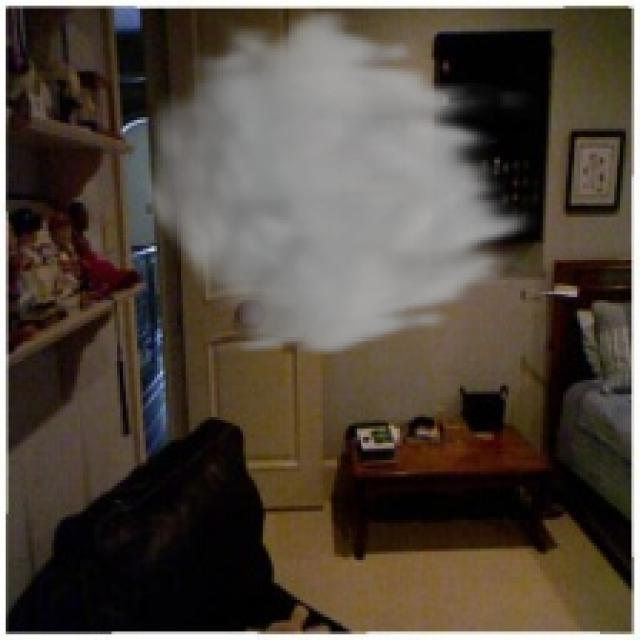Smoke: (137, 3, 546, 360)
